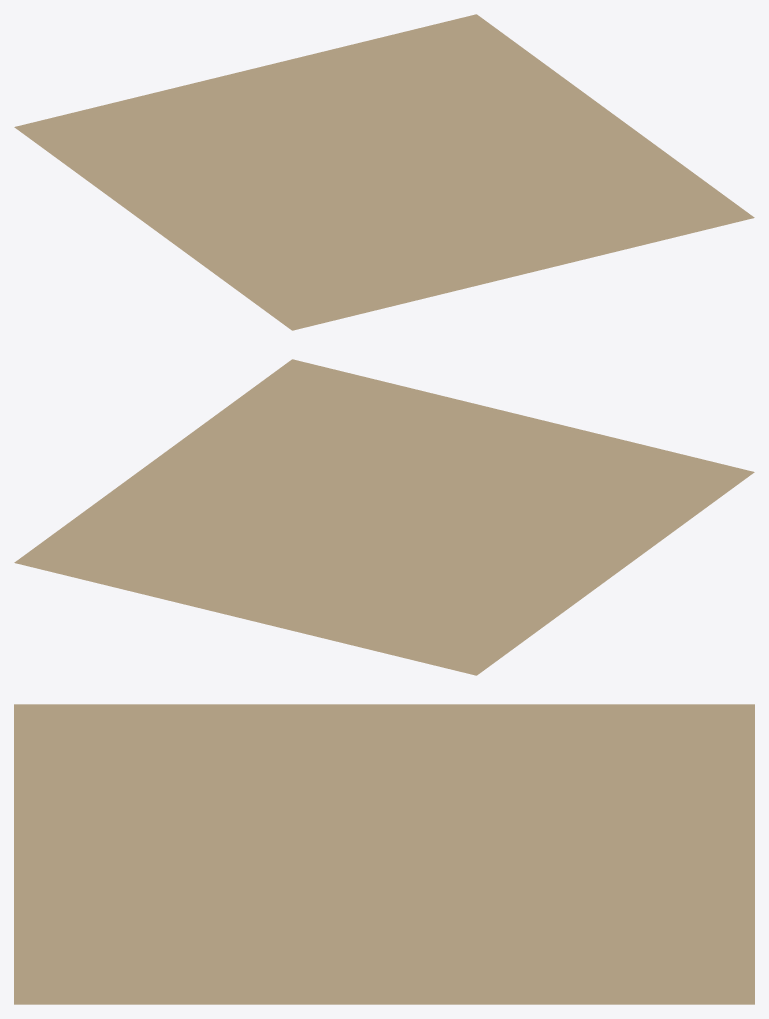
File: ground.glb
The picture shows the model from 3 angles, top to bottom: view 1: azimuth 30°, elevation 25°; view 2: azimuth 150°, elevation 25°; view 3: azimuth 270°, elevation 25°; orthographic projection. The views are drawn at different scales.
Parts seen in each view (by area): view 1: mergedBlocks(Clone); view 2: mergedBlocks(Clone); view 3: mergedBlocks(Clone).
Part boxes in pixels (x1,y1,x2,y2): mergedBlocks(Clone): (14,14,754,330); mergedBlocks(Clone): (14,359,754,675); mergedBlocks(Clone): (14,704,754,1004).
Bounding box in the file's own units: 24 × 0 × 25.
